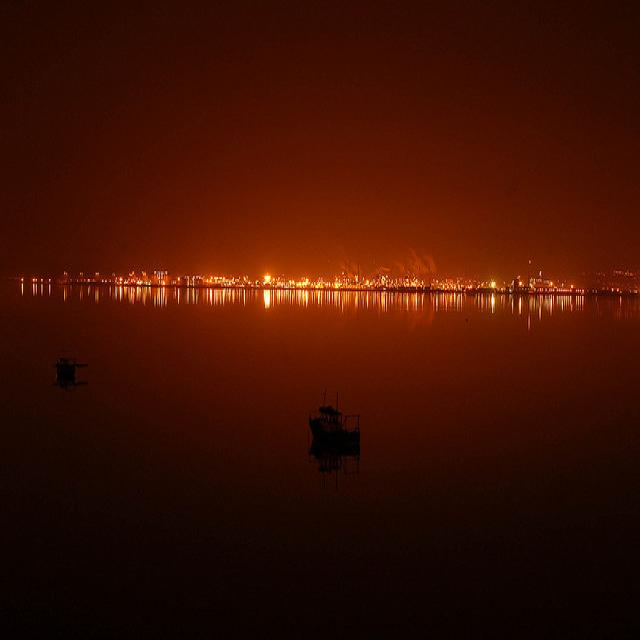Boat: (284, 366, 379, 474), (49, 345, 95, 410)
